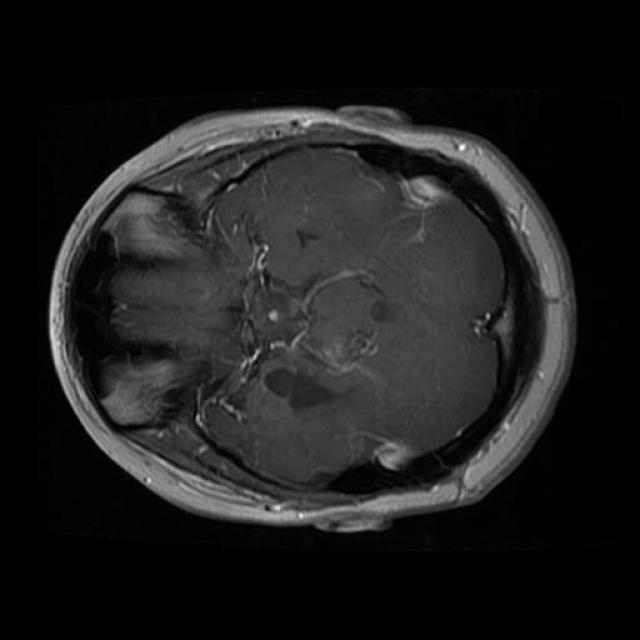Glioma: (248, 348, 371, 418)
